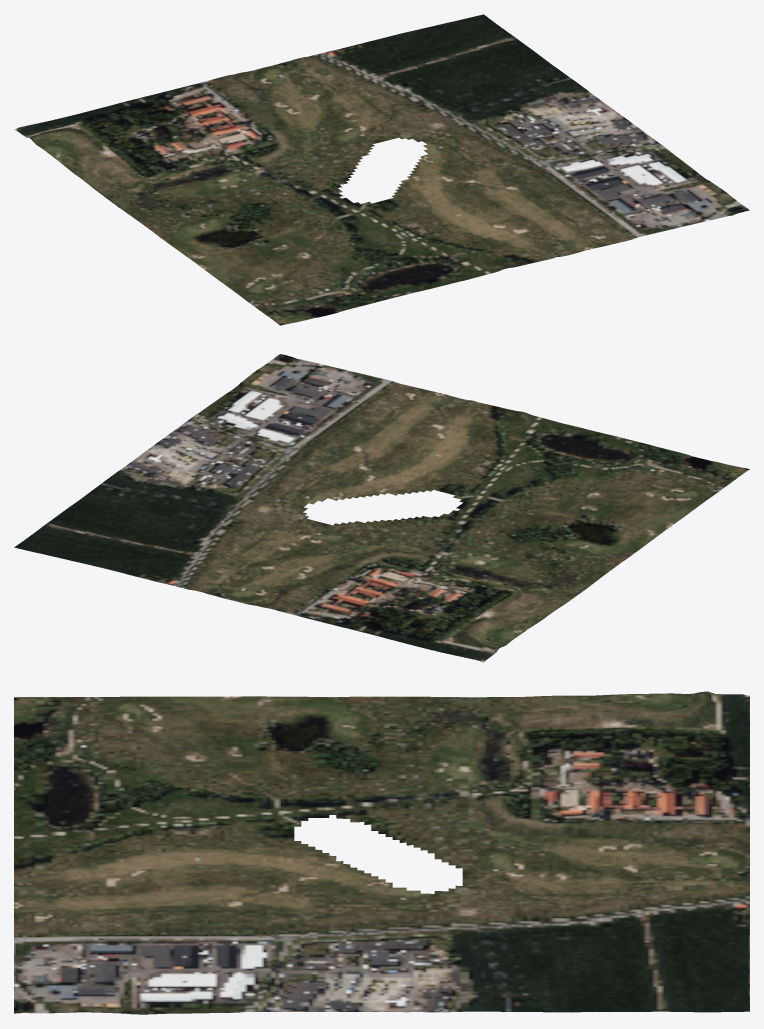
The model's file is black_8_wide.glb.
The picture shows the model from 3 angles, top to bottom: view 1: azimuth 30°, elevation 25°; view 2: azimuth 150°, elevation 25°; view 3: azimuth 270°, elevation 25°; orthographic projection. The views are drawn at different scales.
Visible parts, largest first — view 1: wide; view 2: wide; view 3: wide.
Boxes of the visible parts, bbox=[...] form: wide: bbox=[14, 14, 749, 325]; wide: bbox=[14, 354, 749, 662]; wide: bbox=[14, 691, 749, 1014].
Bounding box in the file's own units: 856 × 12.07 × 840.
1 material, 1 textured.
